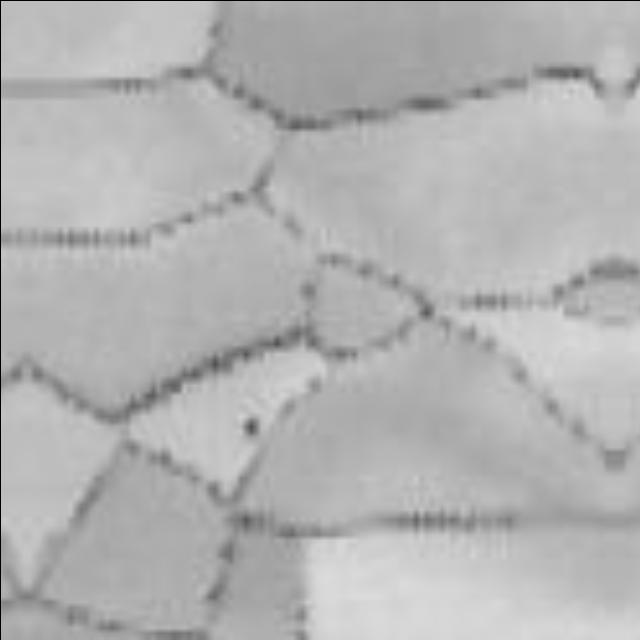good_void: (241, 418, 258, 439)
